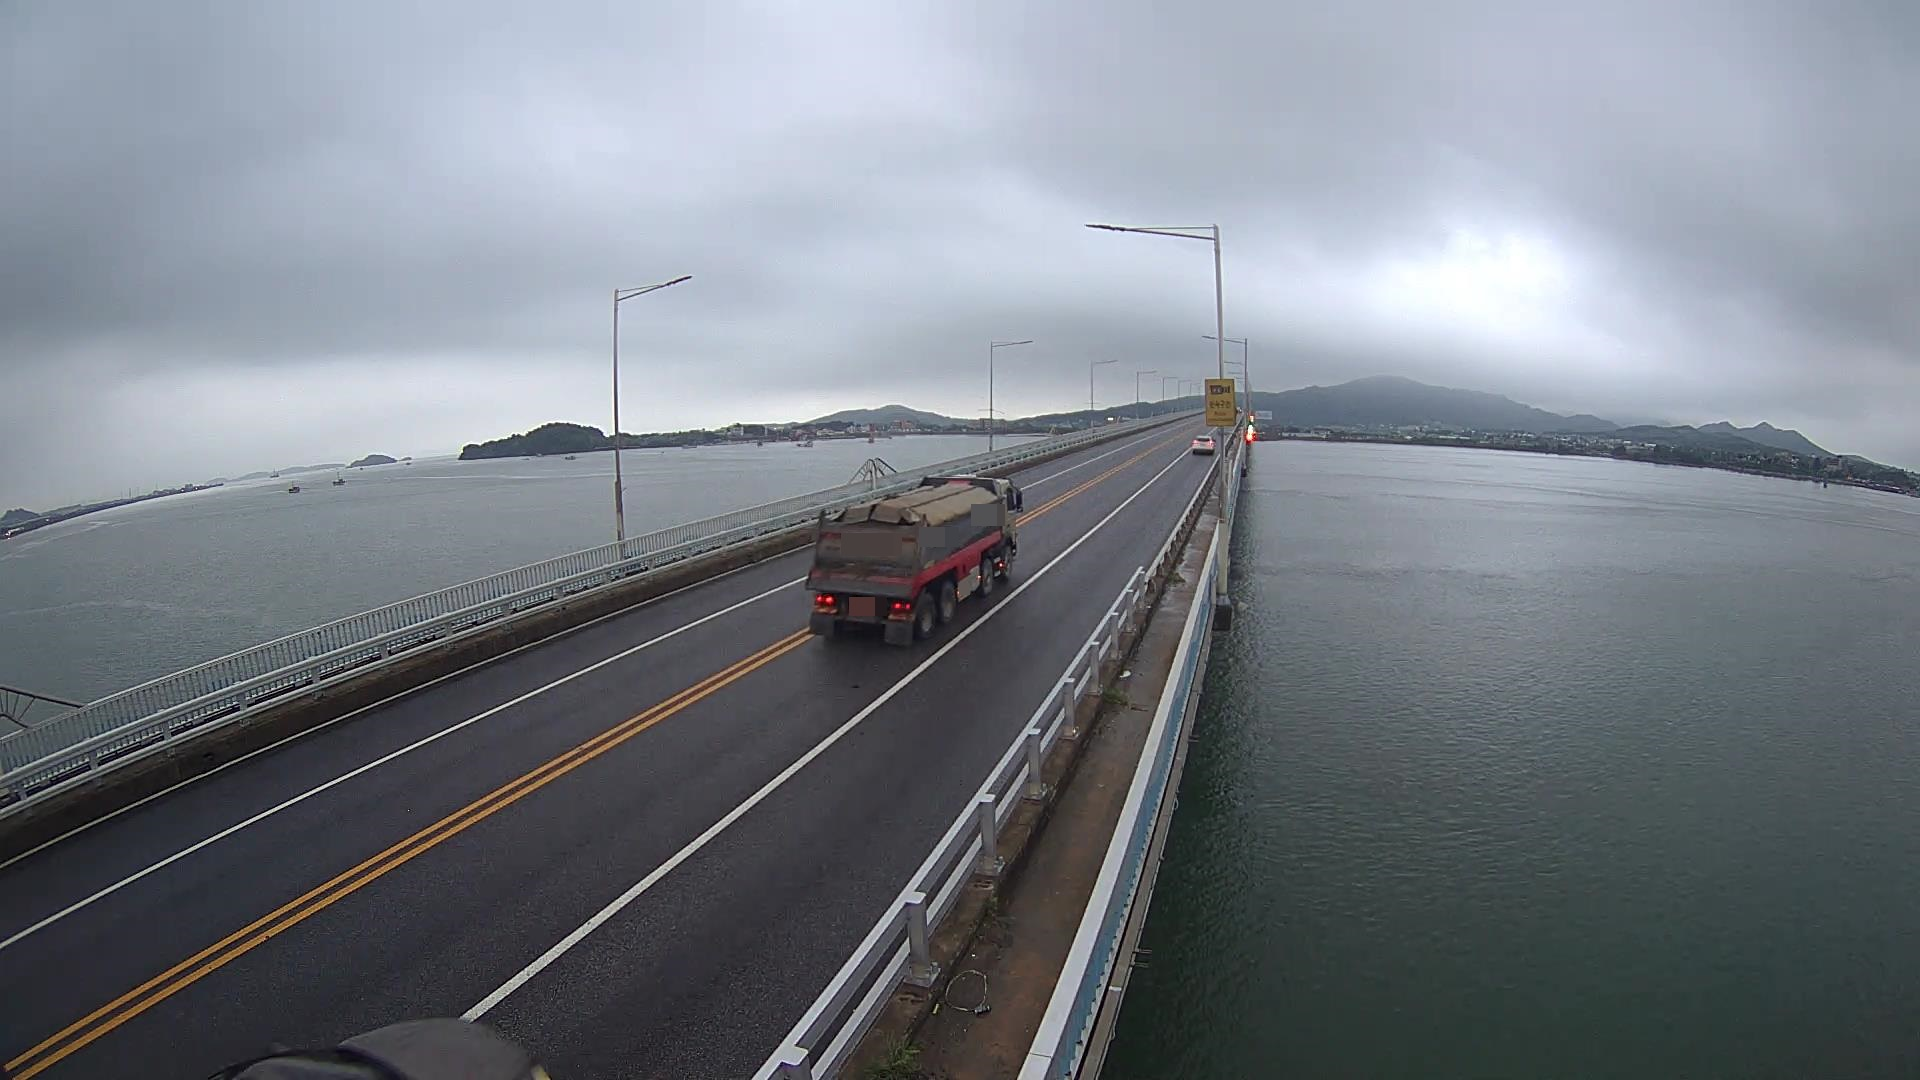정상차량: (804, 473, 1023, 647)
